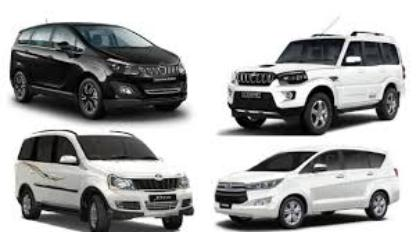car: (9, 125, 197, 232), (223, 28, 412, 132), (11, 19, 193, 119), (211, 143, 404, 232)
